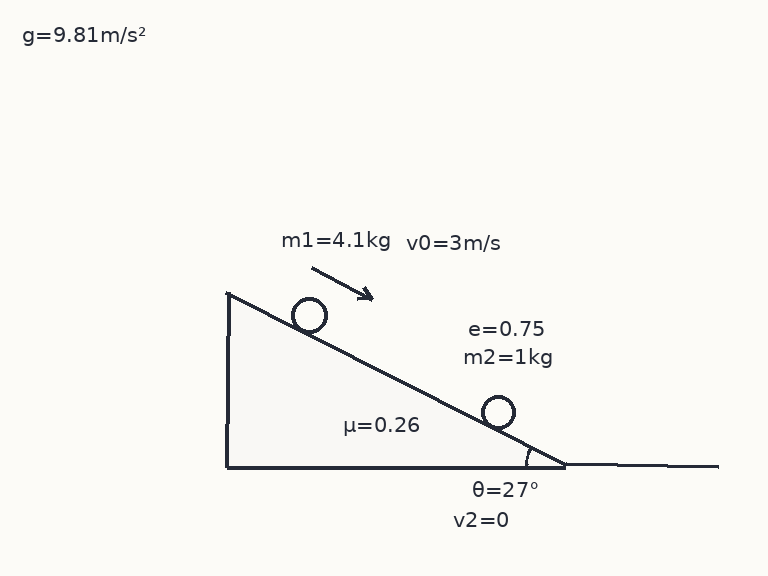ball: (289, 295, 329, 335), (479, 393, 517, 431)
ramp: (225, 291, 568, 468)
